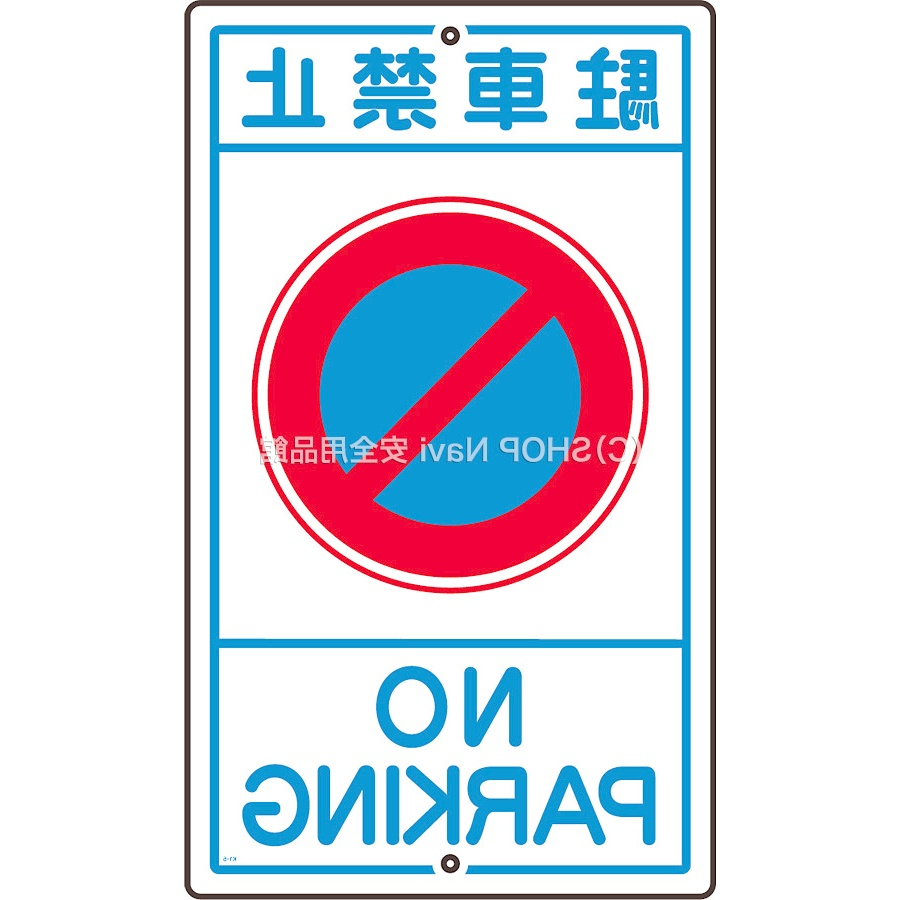Prohibition_sign: (235, 190, 665, 631)
